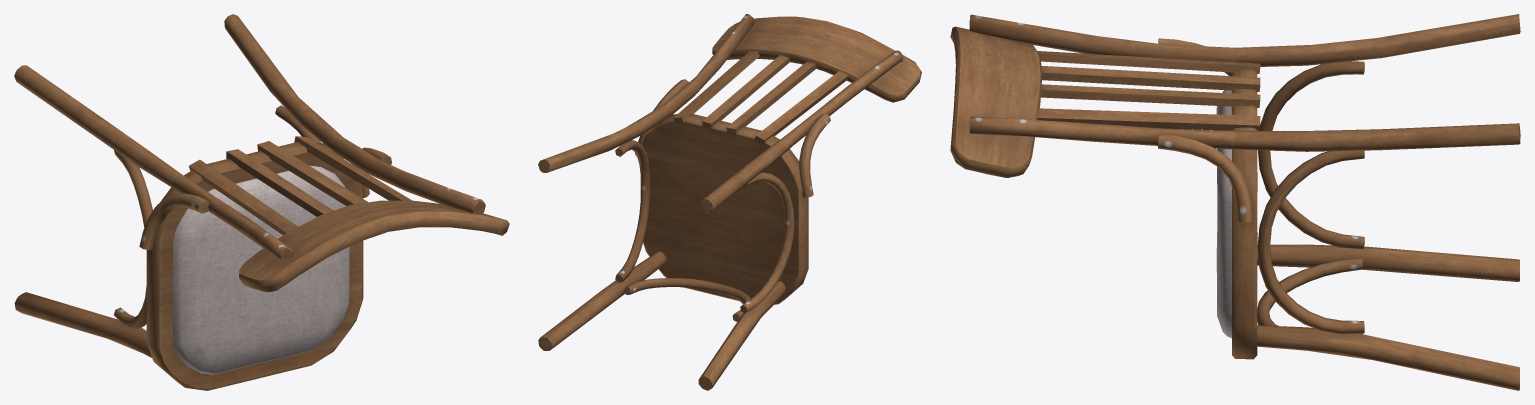
The model's file is old-wooden-chair-24817a.glb.
3 views of the same model, side by side, from view 1: azimuth 30°, elevation 25°; view 2: azimuth 150°, elevation 25°; view 3: azimuth 270°, elevation 25° (orthographic). The views are drawn at different scales.
Parts seen in each view (by area): view 1: PropMesh; view 2: PropMesh; view 3: PropMesh.
Part boxes in pixels (x1,y1,x2,y2): PropMesh: (14, 14, 509, 390); PropMesh: (538, 14, 921, 390); PropMesh: (950, 14, 1520, 390).
Size of the model in its own units: 2.2 by 2.2 by 4.05.
1 material, 1 textured.
